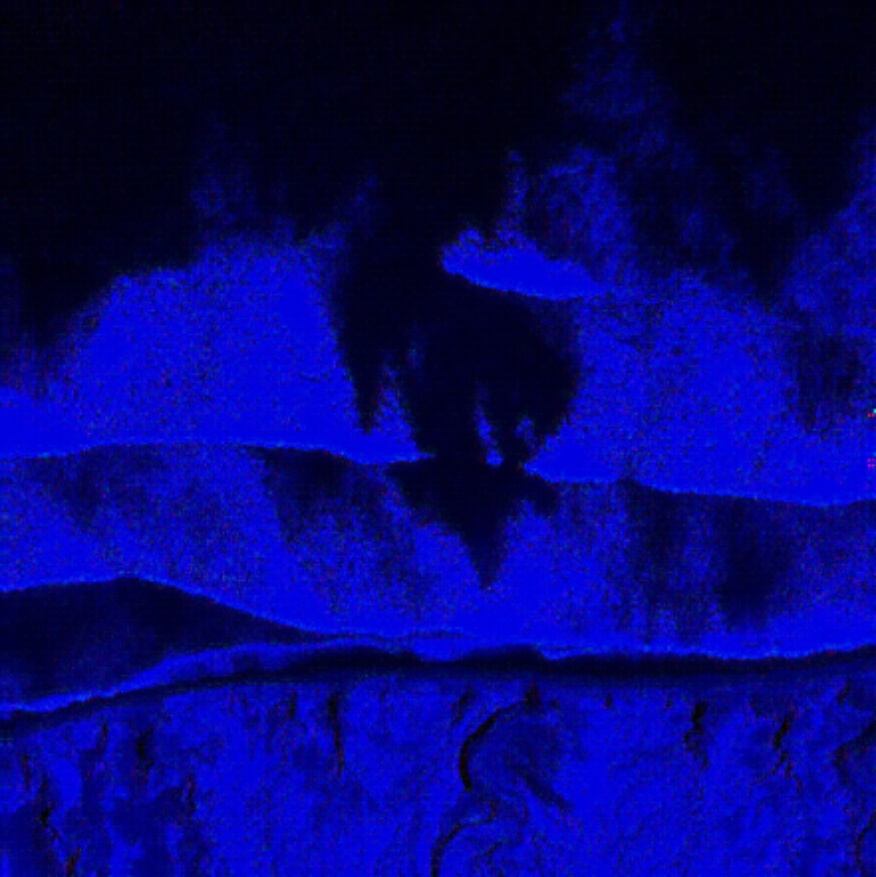rip_current: (284, 126, 576, 653)
